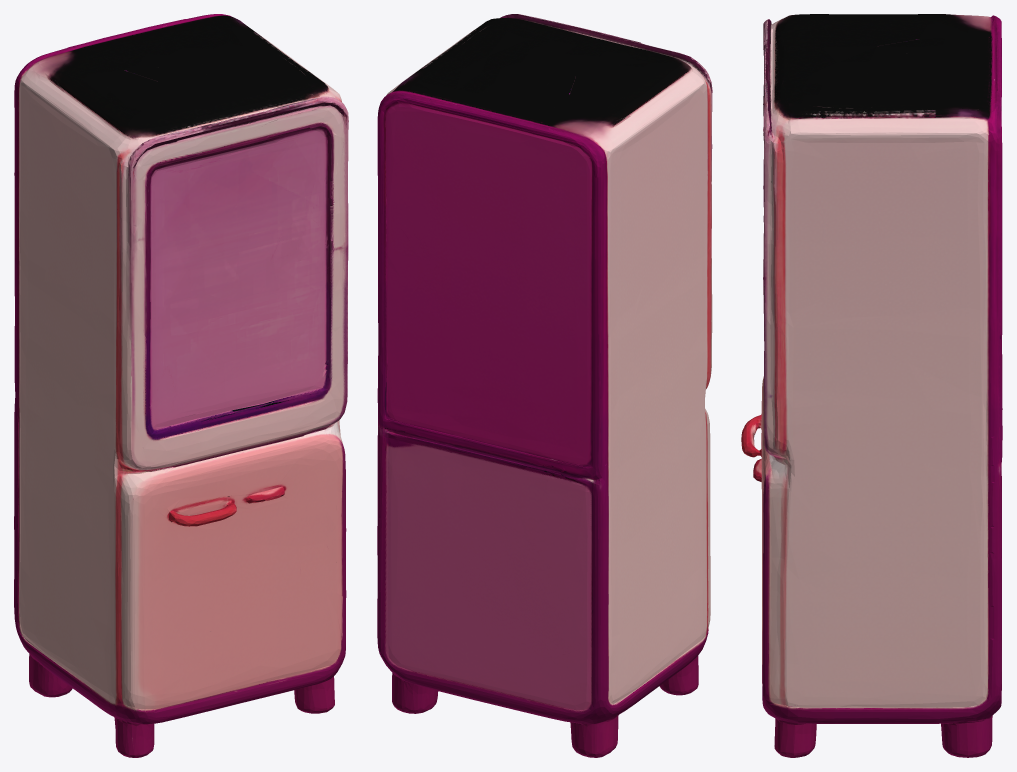
3 views of the same model, side by side, from view 1: azimuth 30°, elevation 25°; view 2: azimuth 150°, elevation 25°; view 3: azimuth 270°, elevation 25° (orthographic). The views are drawn at different scales.
Visible parts, largest first — view 1: world; view 2: world; view 3: world.
Part boxes in pixels (bbox=[...]): world: bbox=[14, 14, 348, 757]; world: bbox=[377, 14, 712, 757]; world: bbox=[741, 14, 1002, 757].
Bounding box in the file's own units: 38.22 × 99.85 × 36.53.
1 material, 1 textured.
